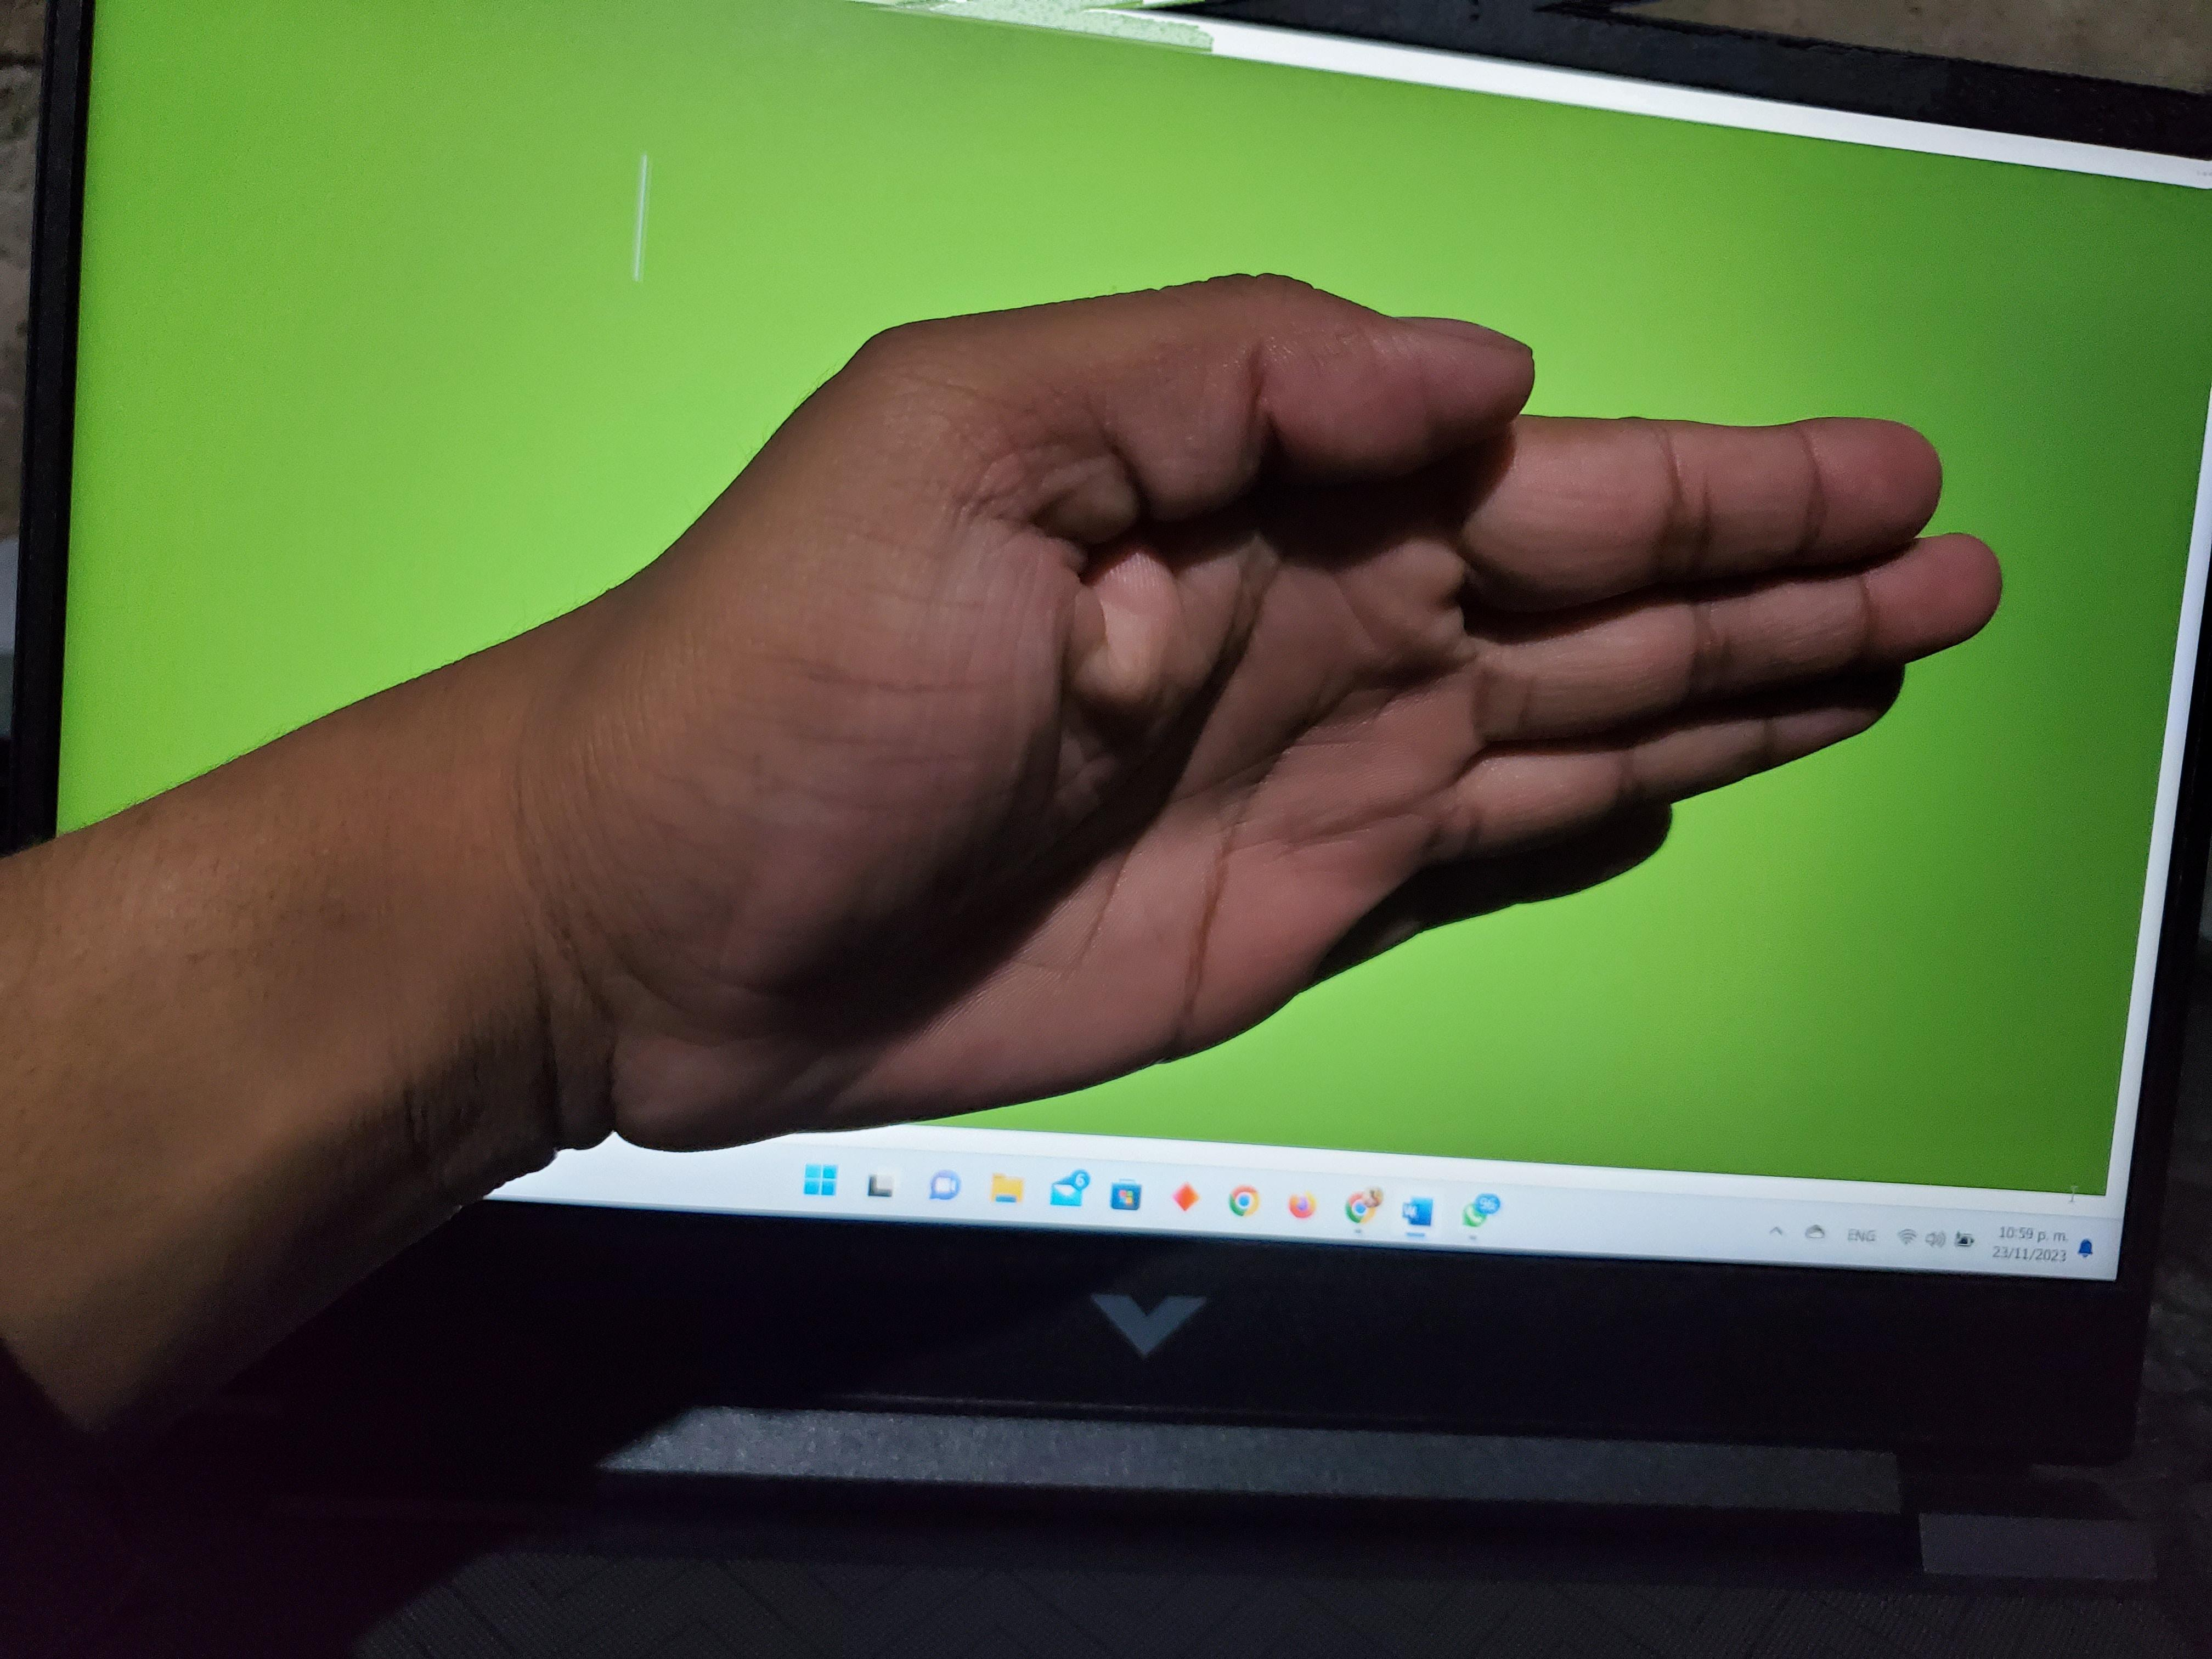Paper: (89, 67, 2155, 1312)
